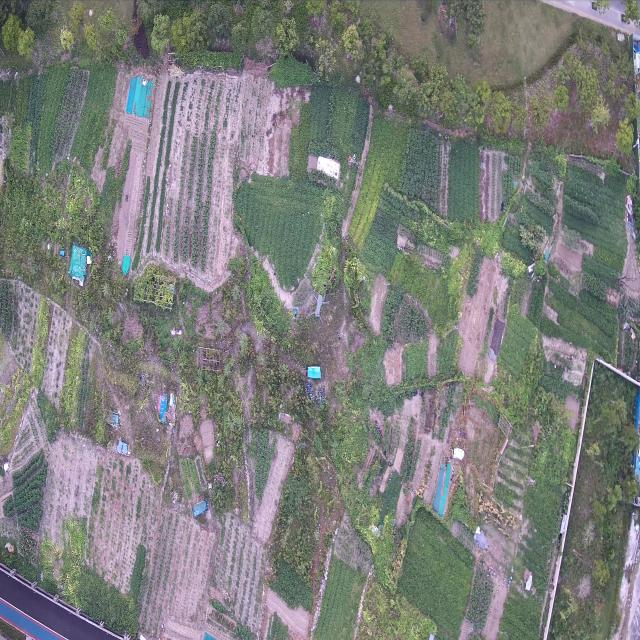UAV: (306, 290, 331, 326)
